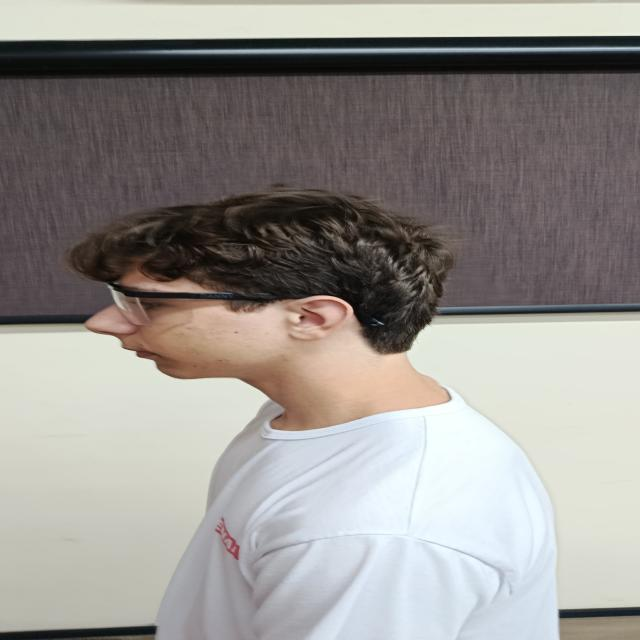oculos-epi: (103, 279, 286, 329)
